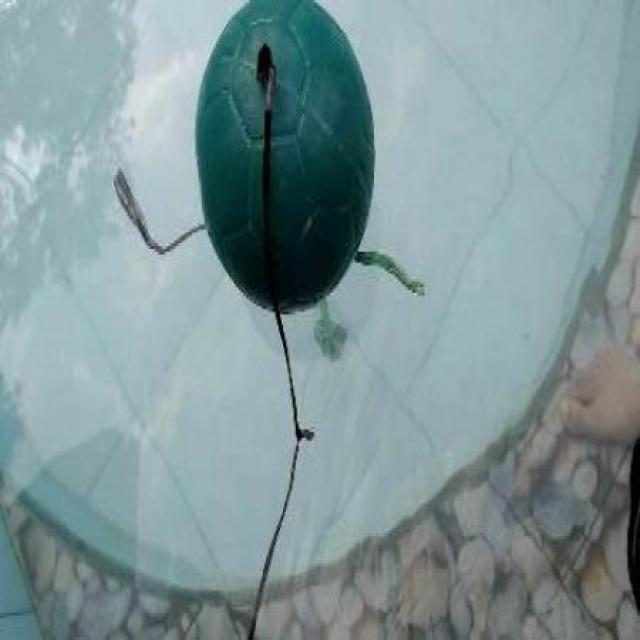buoy: (194, 0, 372, 311)
